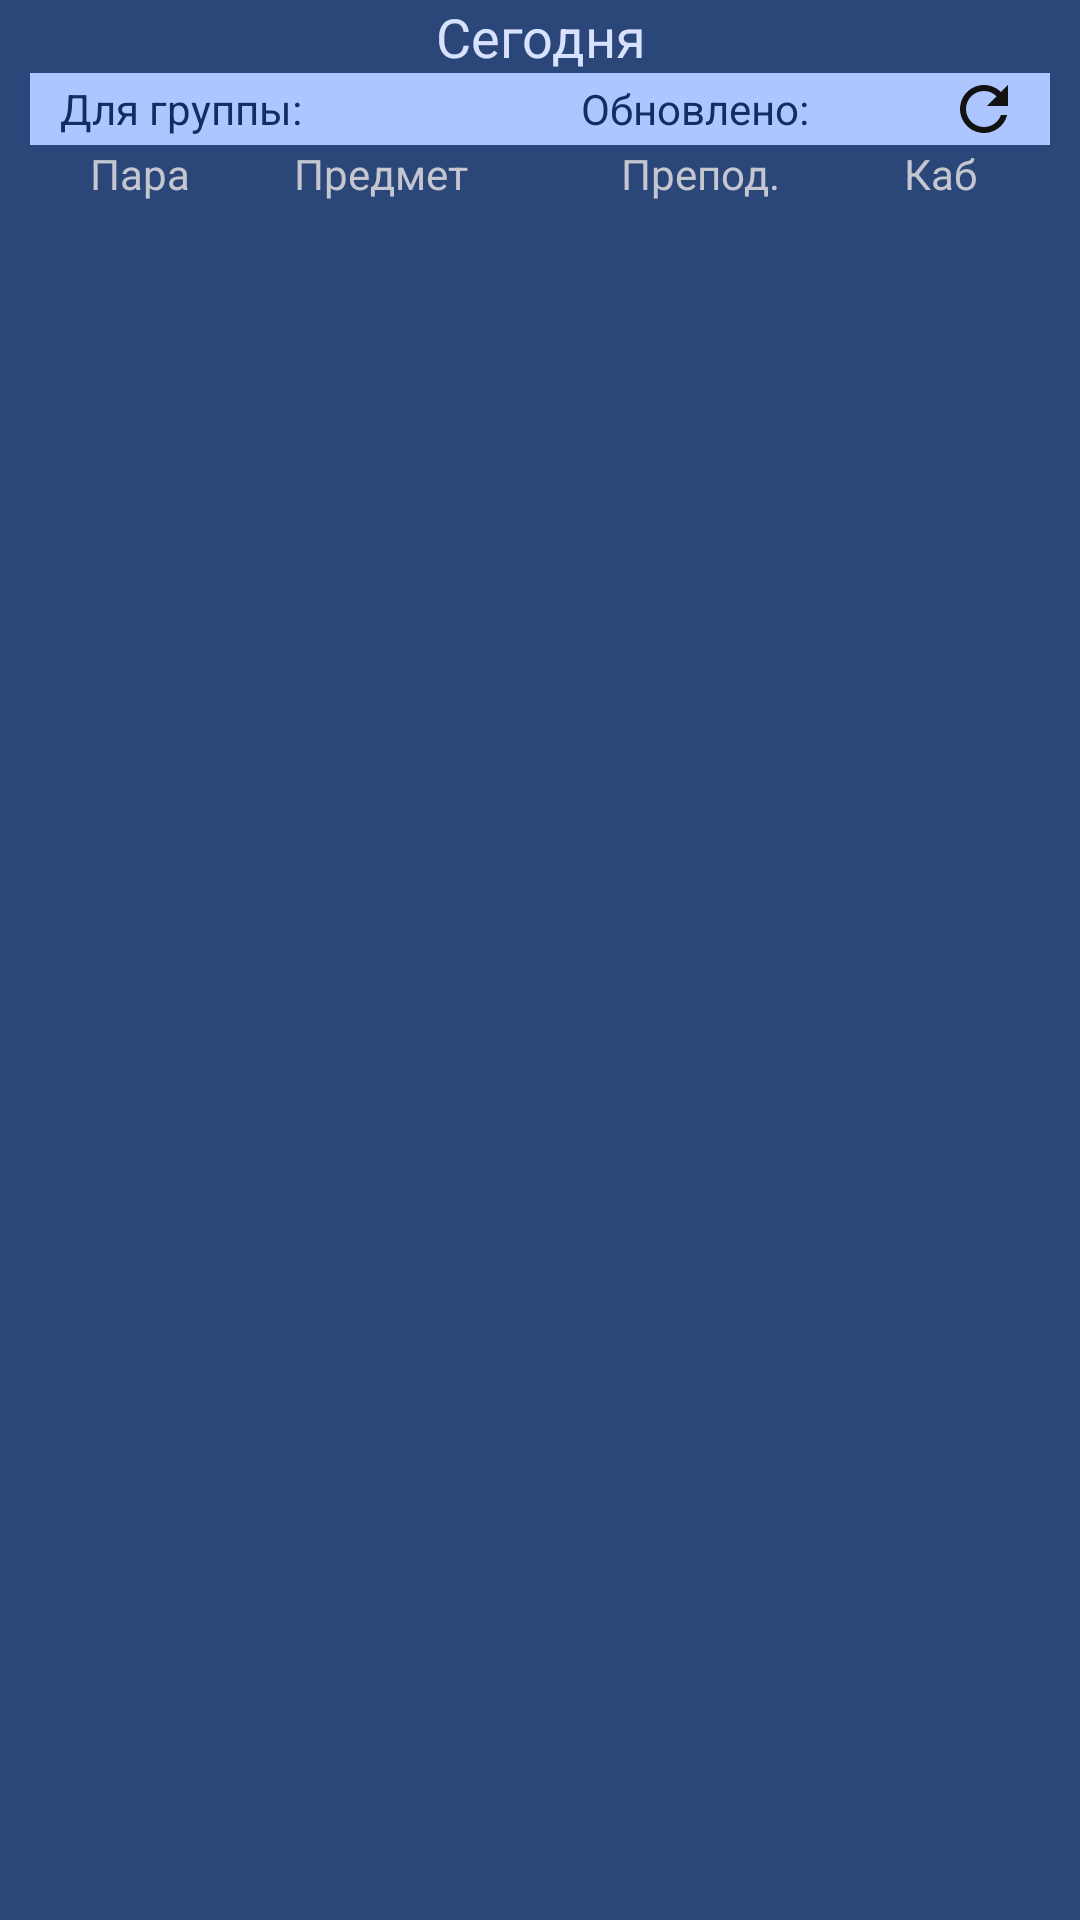

Named icons in this screenshot (1080px×1920px) and their centers, (x,y):
Обновить расписание: (984,109)
